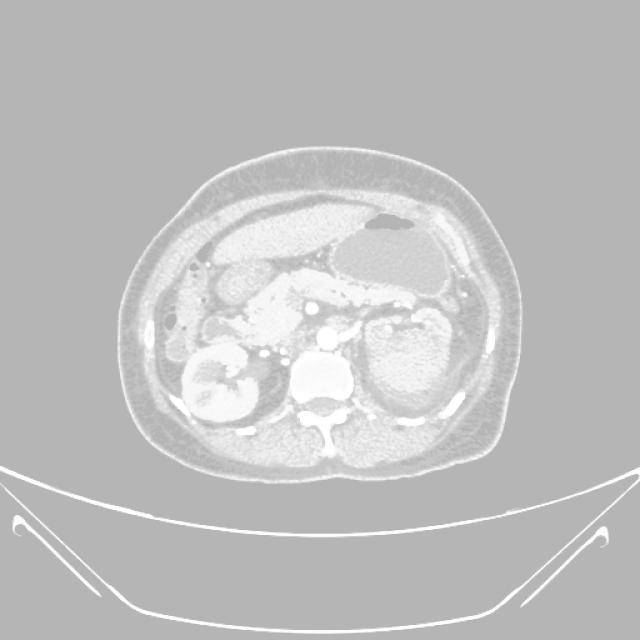TUMOR: (98, 172, 466, 346)
